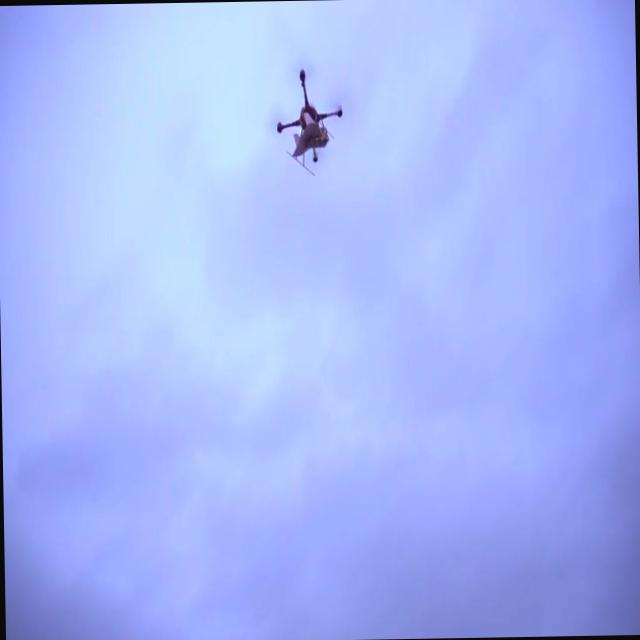drone: (274, 67, 344, 181)
